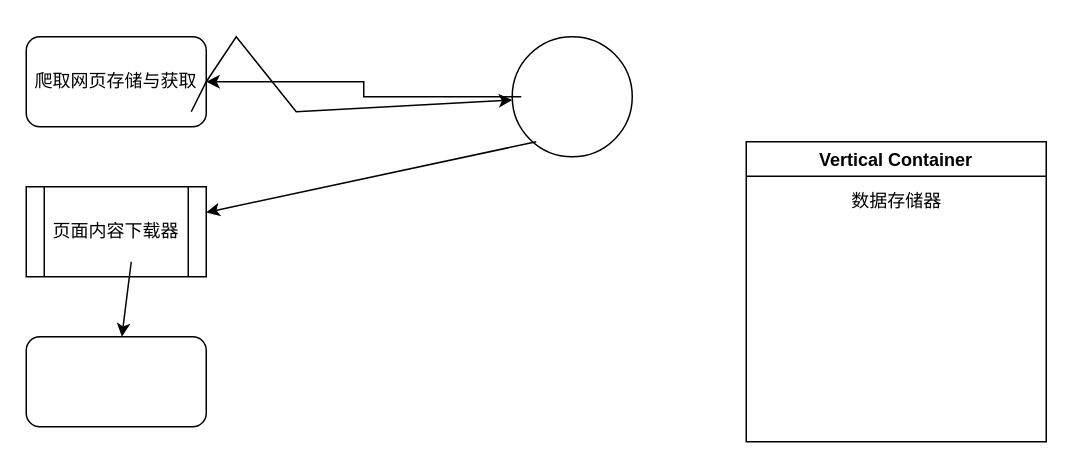
The diagram is 1073 pixels wide and 468 high, and some of its shapes have lost their labels. The box of each missing label's shape, as (x1, y1, x2, y2) in pixels:
爬虫调度器: (511, 35, 632, 157)
页面内容解析器: (25, 335, 206, 427)
